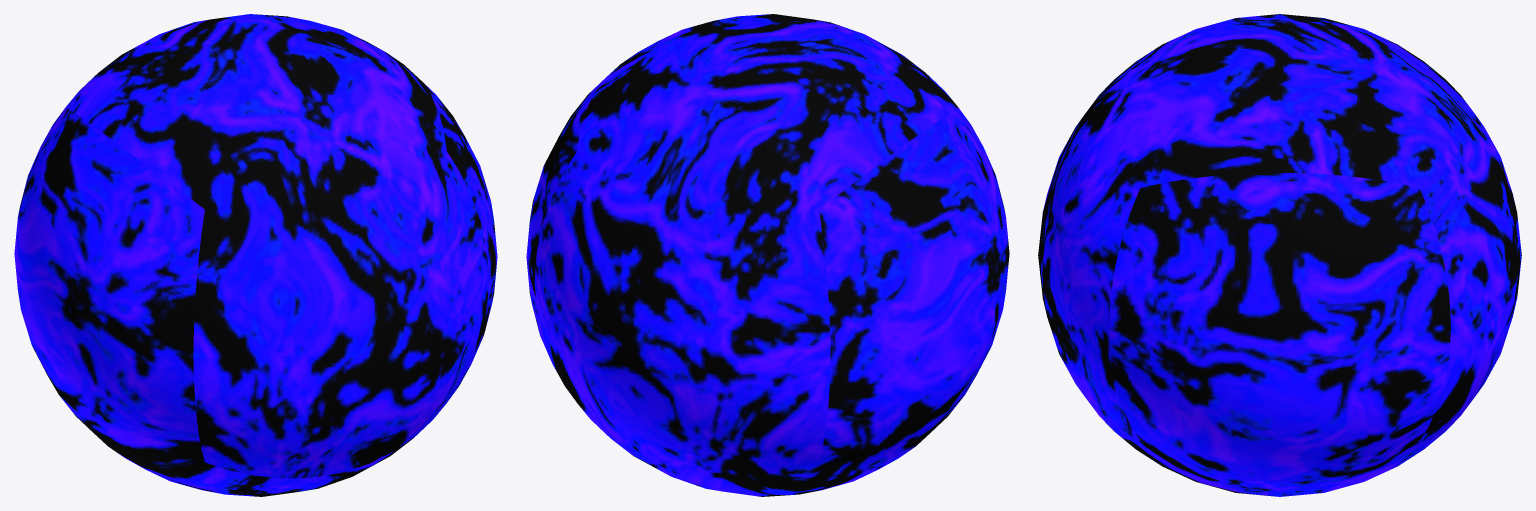
Rendered from blizzard.glb.
The picture shows the model from 3 angles, left to right: view 1: azimuth 30°, elevation 25°; view 2: azimuth 150°, elevation 25°; view 3: azimuth 270°, elevation 25°; orthographic projection.
Parts seen in each view (by area): view 1: 0_fireball_blue; view 2: 0_fireball_blue; view 3: 0_fireball_blue.
Part boxes in pixels (bbox=[...]): 0_fireball_blue: bbox=[14, 14, 497, 496]; 0_fireball_blue: bbox=[526, 14, 1009, 496]; 0_fireball_blue: bbox=[1038, 14, 1521, 496].
Bounding box in the file's own units: 0.127 × 0.127 × 0.127.
1 material, 1 textured.
